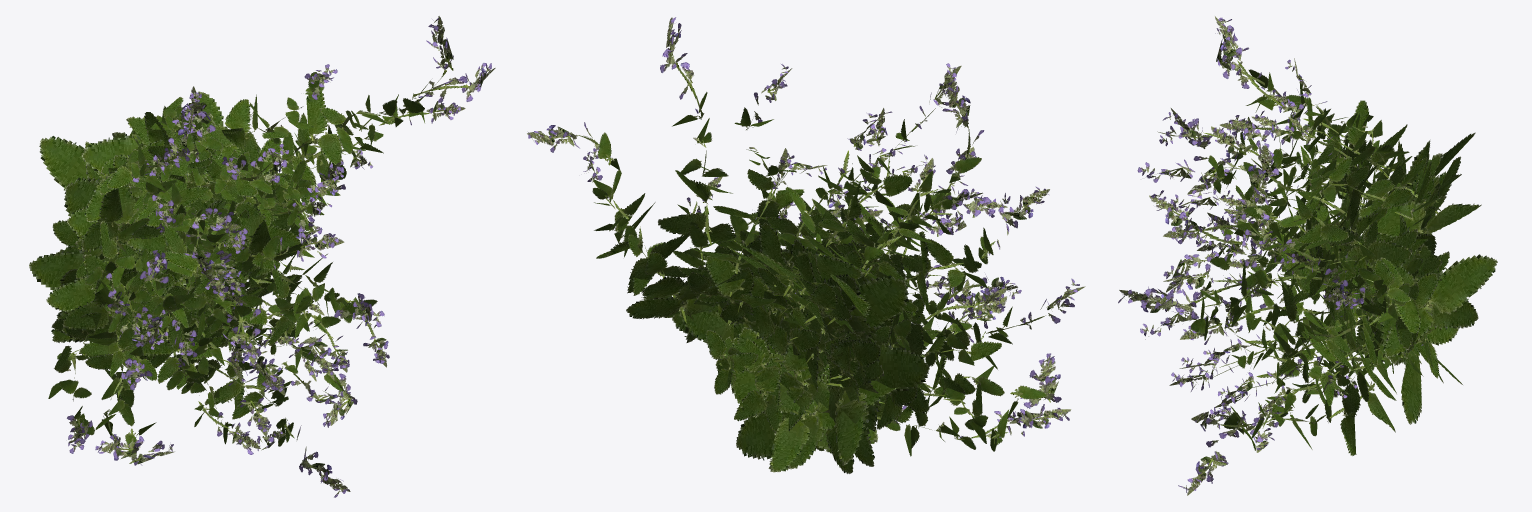
File: plant_flower.glb
3 views of the same model, side by side, from view 1: azimuth 30°, elevation 25°; view 2: azimuth 150°, elevation 25°; view 3: azimuth 270°, elevation 25° (orthographic).
Parts seen in each view (by area): view 1: Object_17; view 2: Object_17; view 3: Object_17.
Part boxes in pixels (bbox=[...]): Object_17: bbox=[29, 16, 495, 497]; Object_17: bbox=[527, 17, 1085, 473]; Object_17: bbox=[1118, 16, 1497, 495].
Size of the model in its own units: 2.68 by 2.18 by 1.9.
Materials: 1 (1 with a texture image).
